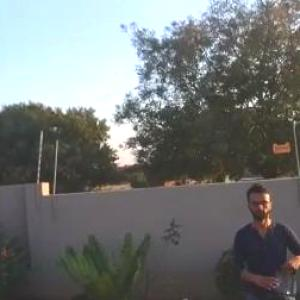follow: (227, 174, 300, 299)
